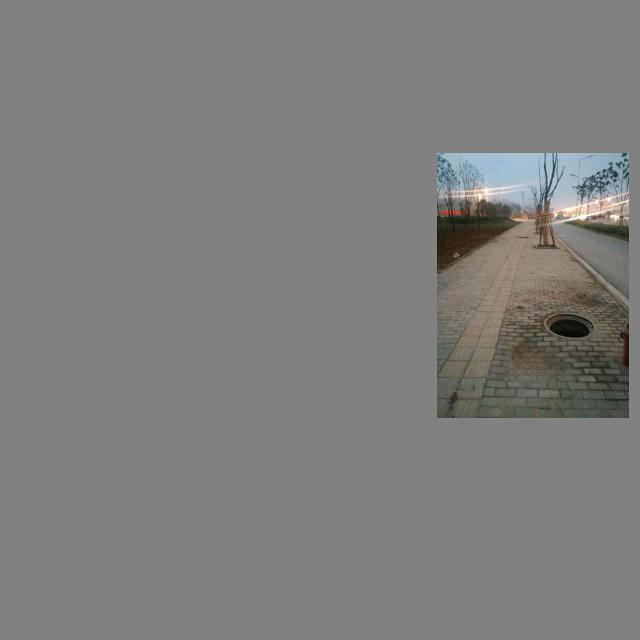lose: (537, 307, 601, 345)
